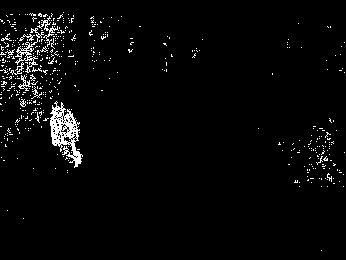person: (49, 100, 83, 169)
